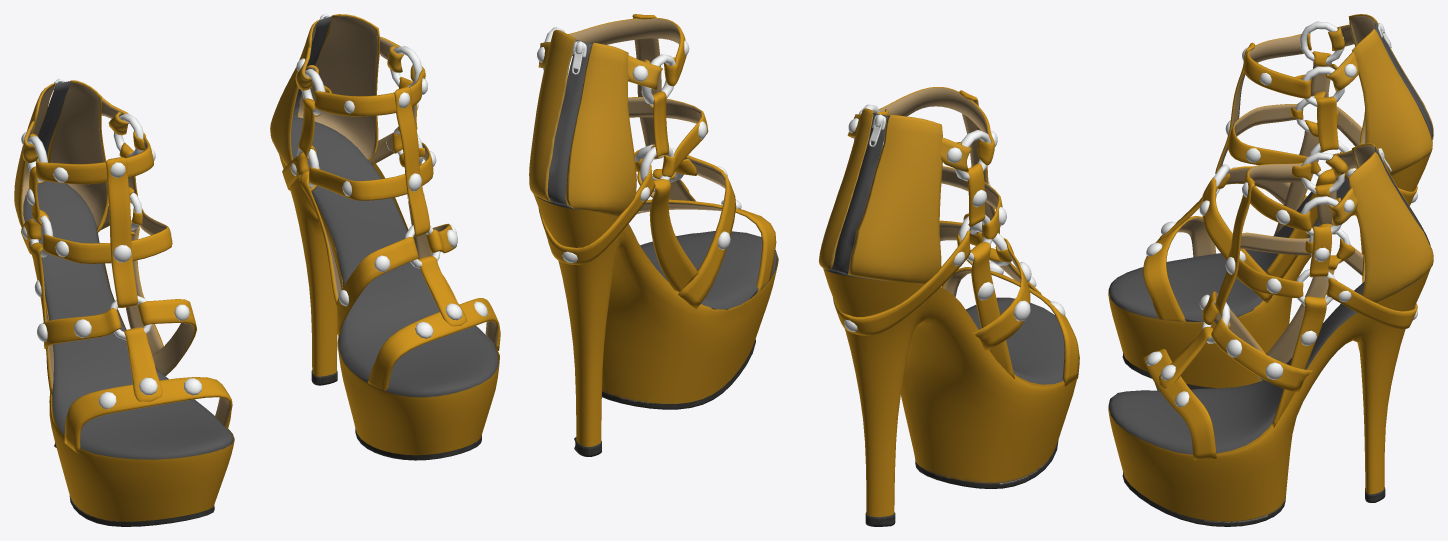
3 renders of one model, left to right at view 1: azimuth 30°, elevation 25°; view 2: azimuth 150°, elevation 25°; view 3: azimuth 270°, elevation 25°, orthographic. The views are drawn at different scales.
Visible parts, largest first — view 1: Heels 1_2; view 2: Heels 1_2; view 3: Heels 1_2.
Part boxes in pixels (x1=…): Heels 1_2: x1=14, y1=14, x2=500, y2=526; Heels 1_2: x1=529, y1=14, x2=1079, y2=526; Heels 1_2: x1=1108, y1=14, x2=1433, y2=526.
Size of the model in its own units: 1.45 by 1.19 by 0.9995.
1 material, 1 textured.
